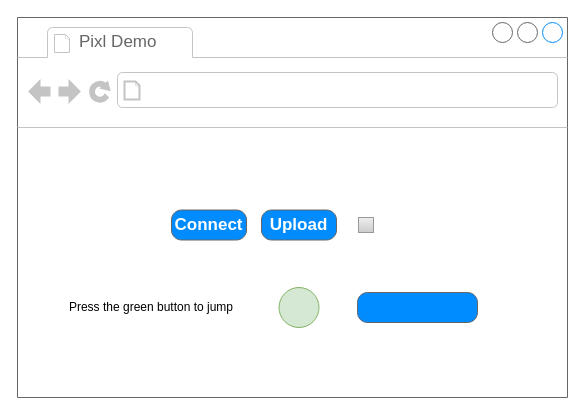
Some shapes in this 585 by 415 pixel diagram are drawn without their labels. Each missing label, with the centre of its shape:
Restart Game: (x=417, y=307)
Write to Flash: (x=366, y=224)
